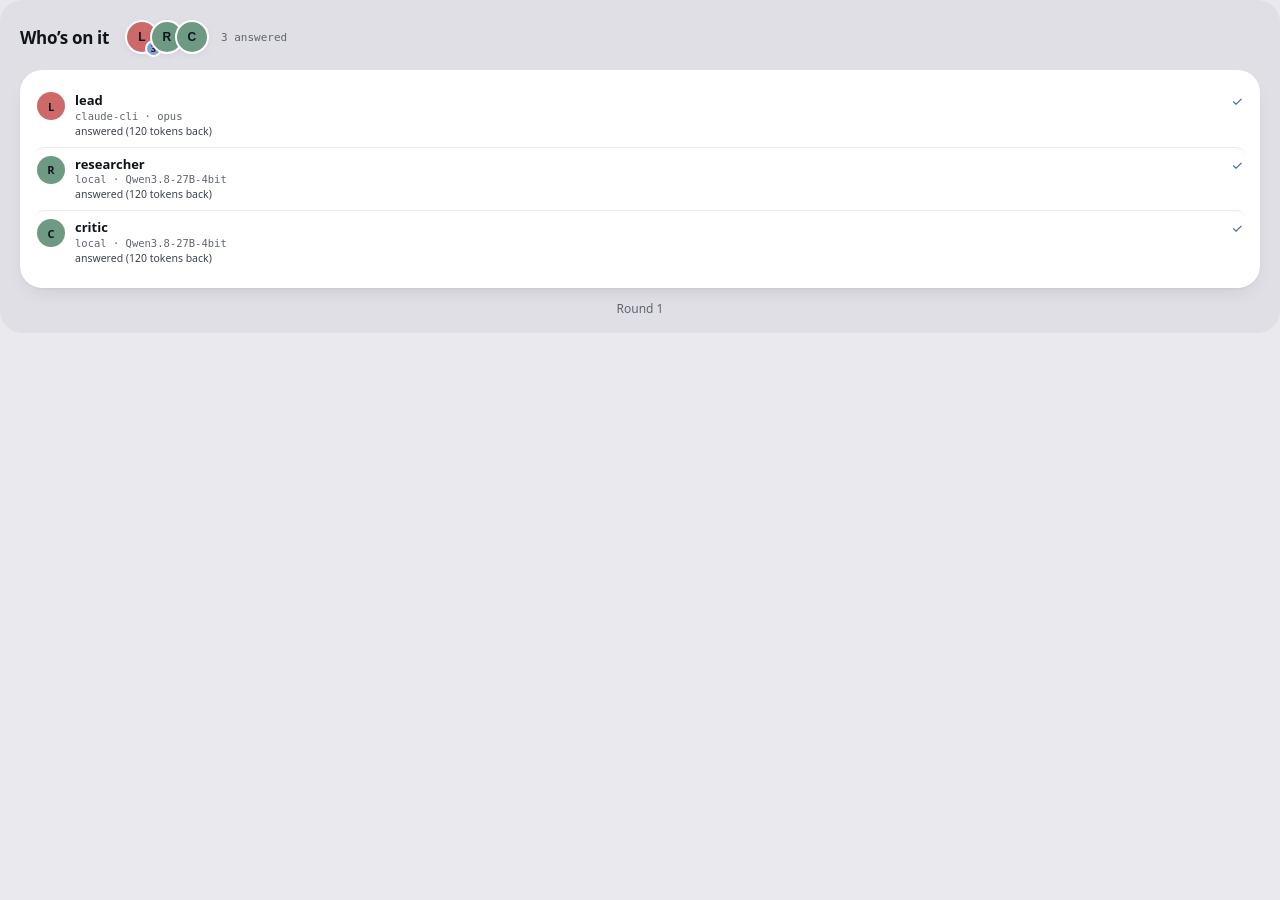
Test case: clicking a coworker opens what THAT coworker is doing › opens a panel naming that agent and the AI that really answered it
This screenshot has width=1280, height=900.
Click the button named "What lead is doing": (142, 37) [125,20,159,54]
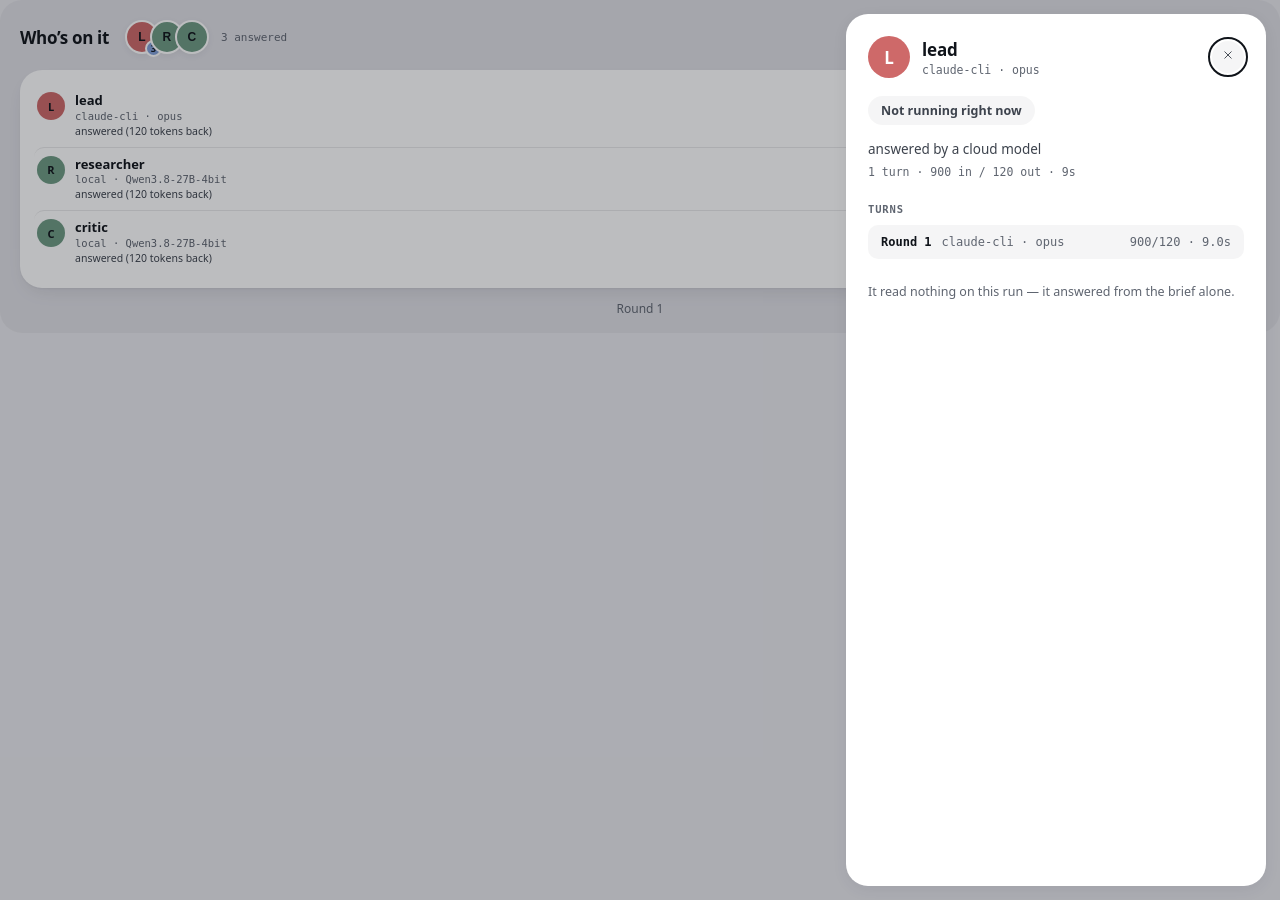
Expected: the dialog "What lead is doing" does not show "Qwen"
Expected: the dialog named "What lead is doing" is shown
Expected: the dialog named "What lead is doing" shows "claude-cli · opus", [922,62,1040,76]
